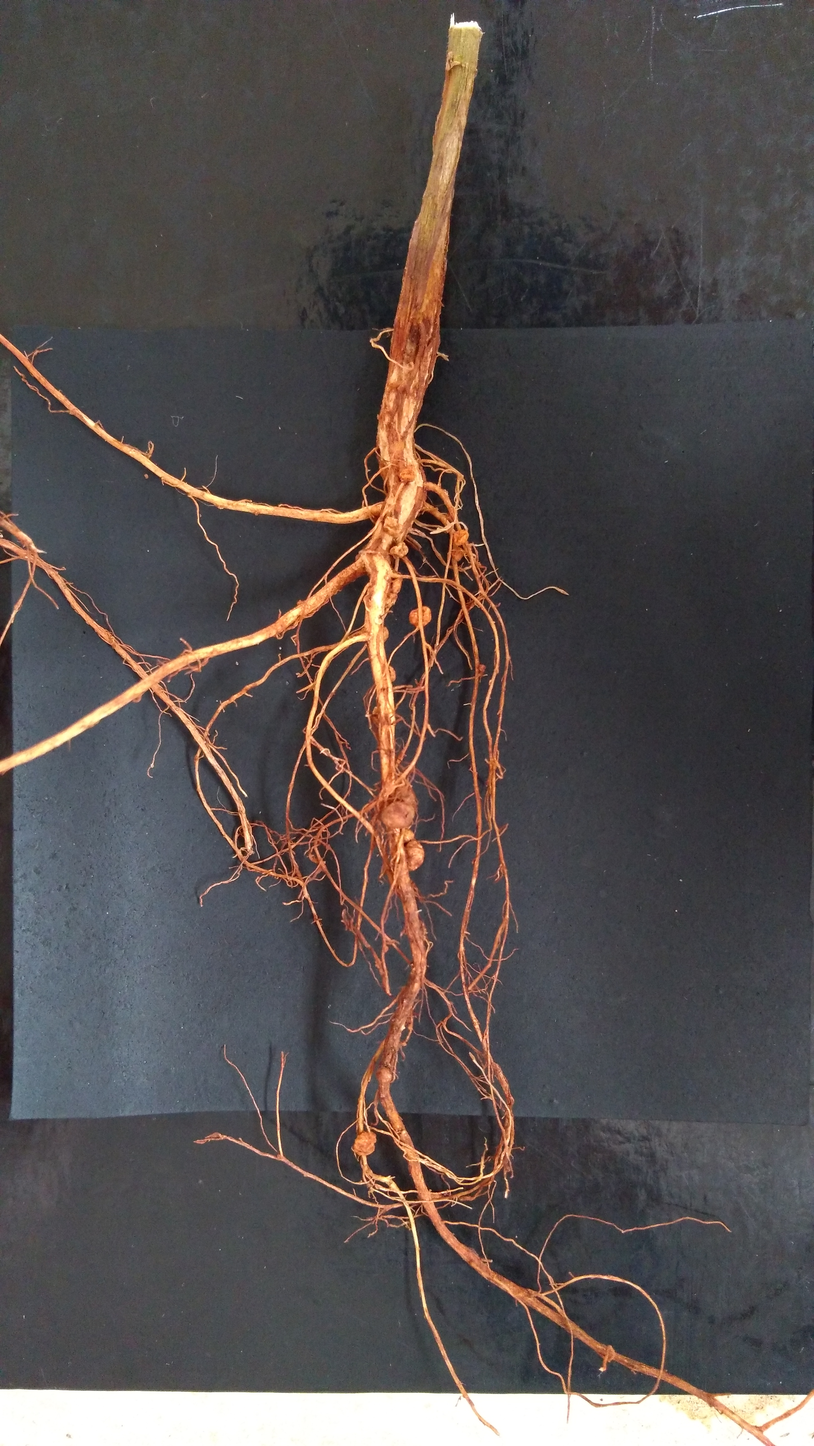nodule: (380, 800, 417, 829), (394, 778, 418, 807), (405, 839, 425, 872), (352, 1131, 377, 1156), (409, 606, 432, 627), (389, 541, 409, 559), (375, 1065, 394, 1083), (390, 569, 403, 594), (383, 516, 400, 534), (453, 529, 469, 546), (385, 592, 399, 611), (399, 828, 415, 844), (399, 468, 416, 482), (384, 492, 395, 512), (451, 547, 466, 561), (371, 706, 380, 728), (388, 664, 397, 683), (370, 505, 382, 515), (382, 626, 389, 643), (478, 663, 486, 673), (297, 599, 304, 606)
